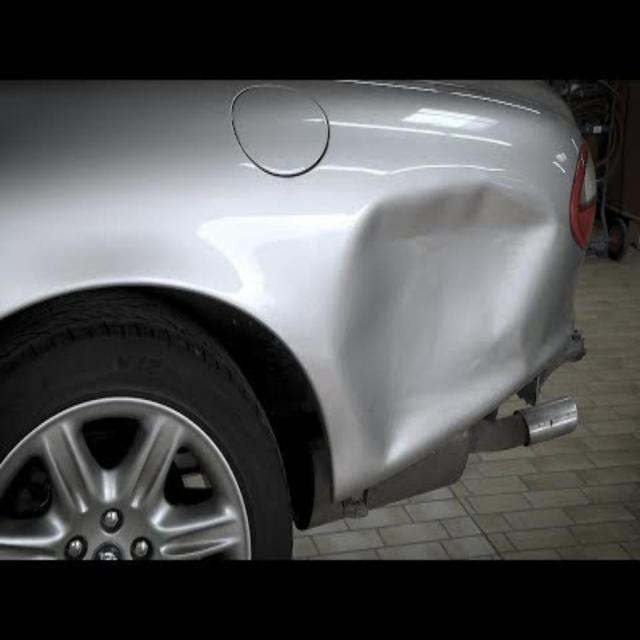minor: (327, 174, 562, 466)
